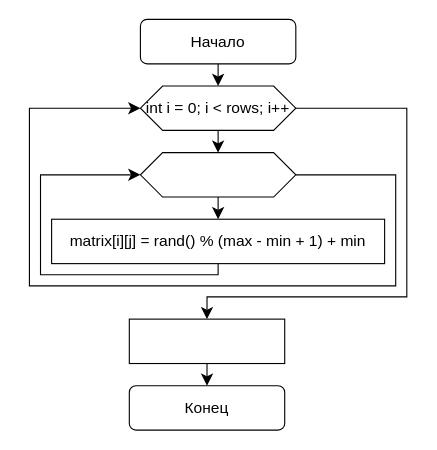
Image size: 437x450. Some labels were removed from this diagram. Here are the shapes that lost their labels. From the top down, the centre of each, then its label:
At (x=217, y=174): "int j = 0; j < cols; j++".
At (x=206, y=341): "return matrix".
